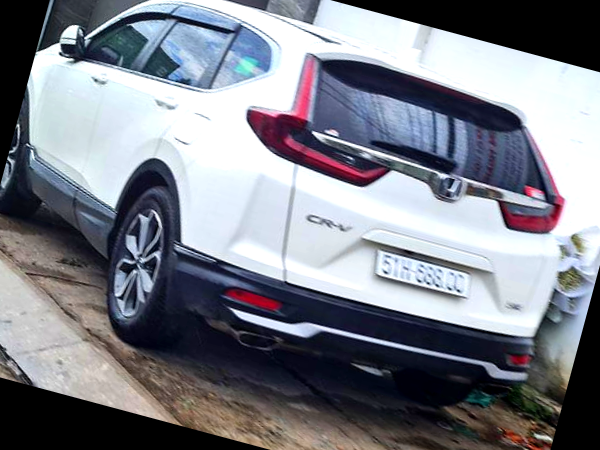lisence: (372, 249, 474, 299)
